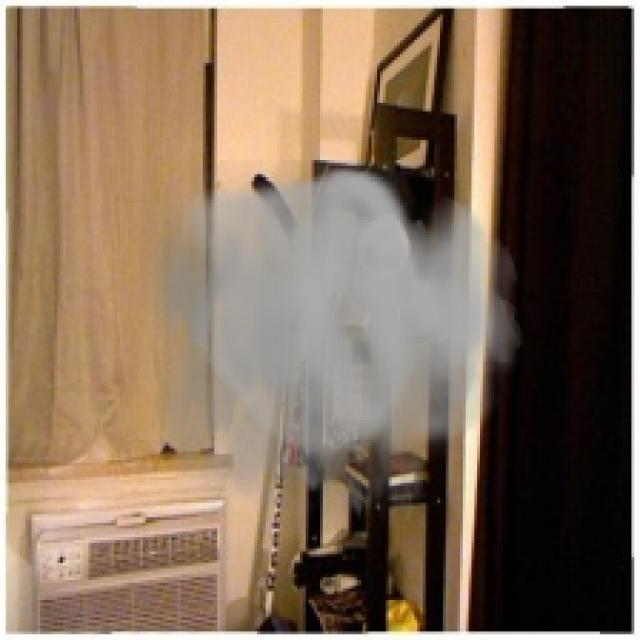Smoke: (131, 160, 523, 563)
